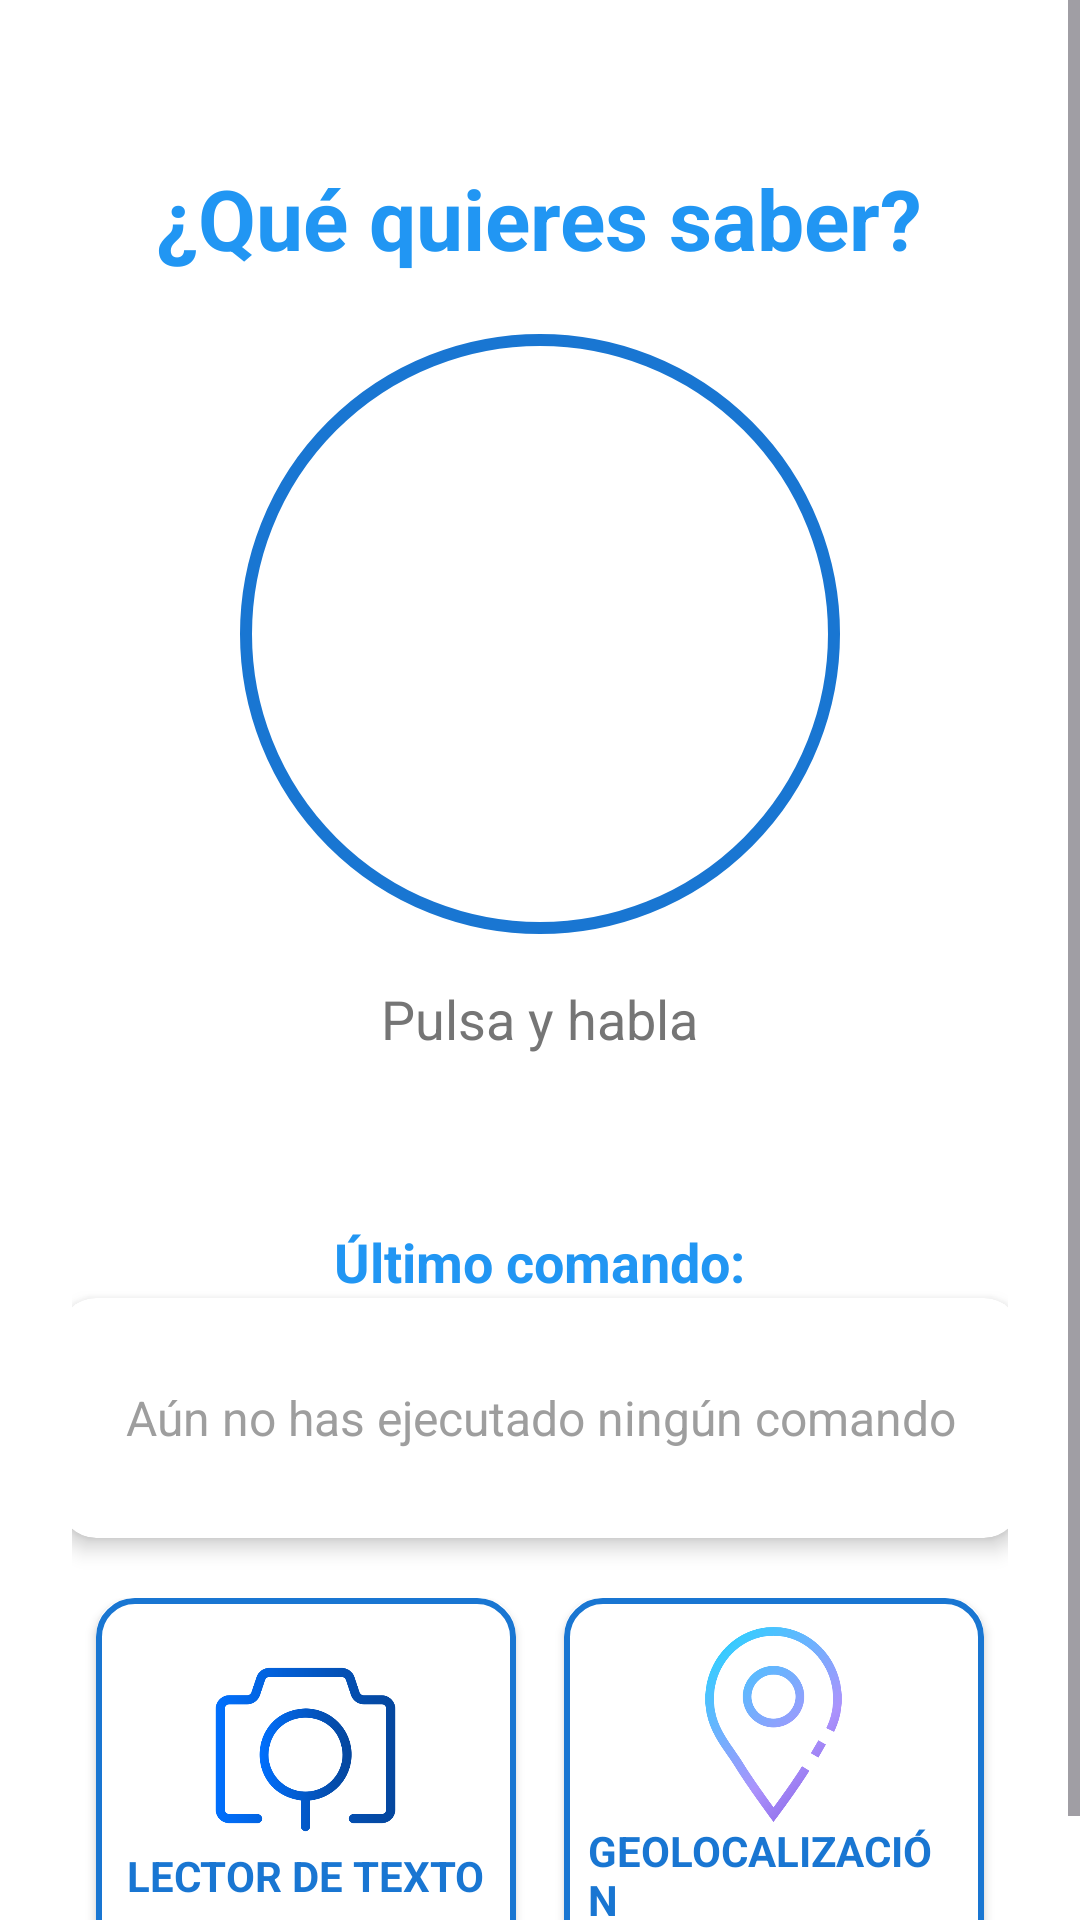

Where icons sit on this 1080 × 1920 app screen, as [left=x1, top=y1, right=x2, bottom=y2]:
camera: [left=215, top=1668, right=396, bottom=1831]
